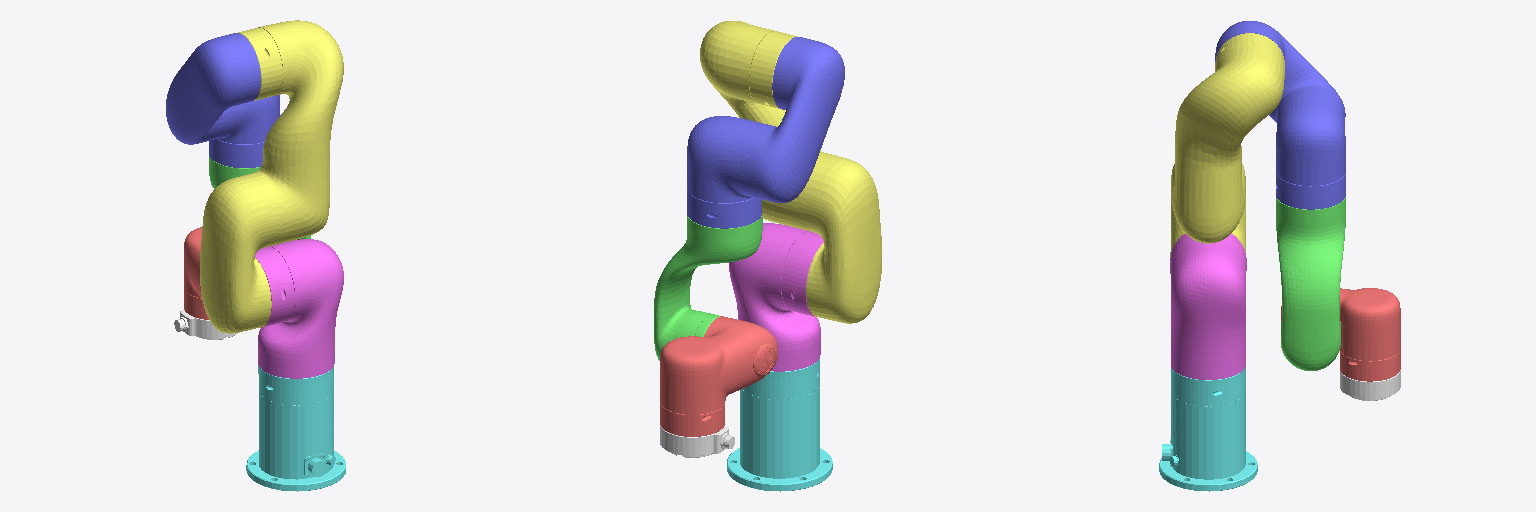
The robot description file, URDF, robot "xarm_urdf_color":
<?xml version="1.0" encoding="utf-8"?>
<!-- This URDF was automatically created by SolidWorks to URDF Exporter! Originally created by Stephen Brawner (brawner@gmail.com) 
     Commit Version: 1.6.0-4-g7f85cfe  Build Version: 1.6.7995.38578
     For more information, please see http://wiki.ros.org/sw_urdf_exporter -->
<robot
  name="xarm_urdf_color">
  <link
    name="base_link">
    <inertial>
      <origin
        xyz="-0.024415 0.015635 0.090248"
        rpy="0 0 0" />
      <mass
        value="1.1181" />
      <inertia
        ixx="0.001685"
        ixy="1.6957E-06"
        ixz="9.2957E-07"
        iyy="0.0016671"
        iyz="-9.0262E-06"
        izz="0.0013787" />
    </inertial>
    <visual>
      <origin
        xyz="0 0 0"
        rpy="0 0 0" />
      <geometry>
        <mesh
          filename="package://xarm_urdf_color/meshes/base_link.STL" />
      </geometry>
      <material
        name="">
        <color
          rgba="0.5 1 1 1" />
      </material>
    </visual>
    <collision>
      <origin
        xyz="0 0 0"
        rpy="0 0 0" />
      <geometry>
        <mesh
          filename="package://xarm_urdf_color/meshes/base_link.STL" />
      </geometry>
    </collision>
  </link>
  <link
    name="Link2">
    <inertial>
      <origin
        xyz="8.1362E-08 0.0034088 0.086994"
        rpy="0 0 0" />
      <mass
        value="1.3381" />
      <inertia
        ixx="0.0030614"
        ixy="6.6429E-10"
        ixz="-5.6484E-07"
        iyy="0.0032341"
        iyz="0.00016586"
        izz="0.0014021" />
    </inertial>
    <visual>
      <origin
        xyz="0 0 0"
        rpy="0 0 0" />
      <geometry>
        <mesh
          filename="package://xarm_urdf_color/meshes/Link2.STL" />
      </geometry>
      <material
        name="">
        <color
          rgba="1 0.5 1 1" />
      </material>
    </visual>
    <collision>
      <origin
        xyz="0 0 0"
        rpy="0 0 0" />
      <geometry>
        <mesh
          filename="package://xarm_urdf_color/meshes/Link2.STL" />
      </geometry>
    </collision>
  </link>
  <joint
    name="joint2"
    type="continuous">
    <origin
      xyz="-0.02444 0.015911 0.16646"
      rpy="0 0 1.5708" />
    <parent
      link="base_link" />
    <child
      link="Link2" />
    <axis
      xyz="0 0 1" />
    <limit
      lower="0"
      upper="0"
      effort="0"
      velocity="0" />
  </joint>
  <link
    name="Link3">
    <inertial>
      <origin
        xyz="0.012168 -0.15565 -0.035665"
        rpy="0 0 0" />
      <mass
        value="2.8892" />
      <inertia
        ixx="0.032819"
        ixy="0.0033762"
        ixz="0.0012993"
        iyy="0.010159"
        iyz="-0.010876"
        izz="0.027588" />
    </inertial>
    <visual>
      <origin
        xyz="0 0 0"
        rpy="0 0 0" />
      <geometry>
        <mesh
          filename="package://xarm_urdf_color/meshes/Link3.STL" />
      </geometry>
      <material
        name="">
        <color
          rgba="1 1 0.5 1" />
      </material>
    </visual>
    <collision>
      <origin
        xyz="0 0 0"
        rpy="0 0 0" />
      <geometry>
        <mesh
          filename="package://xarm_urdf_color/meshes/Link3.STL" />
      </geometry>
    </collision>
  </link>
  <joint
    name="joint3"
    type="revolute">
    <origin
      xyz="0 0.0621 0.118"
      rpy="-1.5708 0 0" />
    <parent
      link="Link2" />
    <child
      link="Link3" />
    <axis
      xyz="0 0 1" />
    <limit
      lower="-2.0595"
      upper="2.0944"
      effort="0"
      velocity="0" />
  </joint>
  <link
    name="Link4">
    <inertial>
      <origin
        xyz="0.05723 0.071725 -0.003541"
        rpy="0 0 0" />
      <mass
        value="1.559" />
      <inertia
        ixx="0.0048668"
        ixy="-0.0016529"
        ixz="0.0009458"
        iyy="0.0045374"
        iyz="0.0011458"
        izz="0.0048084" />
    </inertial>
    <visual>
      <origin
        xyz="0 0 0"
        rpy="0 0 0" />
      <geometry>
        <mesh
          filename="package://xarm_urdf_color/meshes/Link4.STL" />
      </geometry>
      <material
        name="">
        <color
          rgba="0.5 0.5 1 1" />
      </material>
    </visual>
    <collision>
      <origin
        xyz="0 0 0"
        rpy="0 0 0" />
      <geometry>
        <mesh
          filename="package://xarm_urdf_color/meshes/Link4.STL" />
      </geometry>
    </collision>
  </link>
  <joint
    name="joint4"
    type="revolute">
    <origin
      xyz="0.053148 -0.28478 -0.0178"
      rpy="0 0 0" />
    <parent
      link="Link3" />
    <child
      link="Link4" />
    <axis
      xyz="0 0 1" />
    <limit
      lower="-3.927"
      upper="0.19199"
      effort="0"
      velocity="0" />
  </joint>
  <link
    name="Link5">
    <inertial>
      <origin
        xyz="-5.3149E-07 0.030899 0.10125"
        rpy="0 0 0" />
      <mass
        value="0.84286" />
      <inertia
        ixx="0.0046465"
        ixy="2.6629E-10"
        ixz="-1.2154E-09"
        iyy="0.0041624"
        iyz="-0.001225"
        izz="0.0011818" />
    </inertial>
    <visual>
      <origin
        xyz="0 0 0"
        rpy="0 0 0" />
      <geometry>
        <mesh
          filename="package://xarm_urdf_color/meshes/Link5.STL" />
      </geometry>
      <material
        name="">
        <color
          rgba="0.5 1 0.5 1" />
      </material>
    </visual>
    <collision>
      <origin
        xyz="0 0 0"
        rpy="0 0 0" />
      <geometry>
        <mesh
          filename="package://xarm_urdf_color/meshes/Link5.STL" />
      </geometry>
    </collision>
  </link>
  <joint
    name="joint5"
    type="continuous">
    <origin
      xyz="0.077749 0.16061 -0.0443"
      rpy="-1.5708 0 0" />
    <parent
      link="Link4" />
    <child
      link="Link5" />
    <axis
      xyz="0 0 1" />
    <limit
      lower="0"
      upper="0"
      effort="0"
      velocity="0" />
  </joint>
  <link
    name="Link6">
    <inertial>
      <origin
        xyz="0.045987 0.0093462 0.022466"
        rpy="0 0 0" />
      <mass
        value="0.82753" />
      <inertia
        ixx="0.00064253"
        ixy="-2.4535E-05"
        ixz="0.00022583"
        iyy="0.0015836"
        iyz="7.043E-06"
        izz="0.0015057" />
    </inertial>
    <visual>
      <origin
        xyz="0 0 0"
        rpy="0 0 0" />
      <geometry>
        <mesh
          filename="package://xarm_urdf_color/meshes/Link6.STL" />
      </geometry>
      <material
        name="">
        <color
          rgba="1 0.5 0.5 1" />
      </material>
    </visual>
    <collision>
      <origin
        xyz="0 0 0"
        rpy="0 0 0" />
      <geometry>
        <mesh
          filename="package://xarm_urdf_color/meshes/Link6.STL" />
      </geometry>
    </collision>
  </link>
  <joint
    name="joint6"
    type="revolute">
    <origin
      xyz="1.1469E-05 0.014 0.1817"
      rpy="1.5708 0 0" />
    <parent
      link="Link5" />
    <child
      link="Link6" />
    <axis
      xyz="0 0 1" />
    <limit
      lower="-1.693"
      upper="3.1416"
      effort="0"
      velocity="0" />
  </joint>
  <link
    name="EE_Link">
    <inertial>
      <origin
        xyz="1.59805922494982E-07 -0.00180149622908889 0.0156188075371726"
        rpy="0 0 0" />
      <mass
        value="0.138708669532972" />
      <inertia
        ixx="6.96057927162632E-05"
        ixy="9.5724766077616E-10"
        ixz="8.28562698985609E-12"
        iyy="5.83956362885756E-05"
        iyz="-2.90543034249767E-07"
        izz="0.000108805105179939" />
    </inertial>
    <visual>
      <origin
        xyz="0 0 0"
        rpy="0 0 0" />
      <geometry>
        <mesh
          filename="package://xarm_urdf_color/meshes/EE_Link.STL" />
      </geometry>
      <material
        name="">
        <color
          rgba="1 1 1 1" />
      </material>
    </visual>
    <collision>
      <origin
        xyz="0 0 0"
        rpy="0 0 0" />
      <geometry>
        <mesh
          filename="package://xarm_urdf_color/meshes/EE_Link.STL" />
      </geometry>
    </collision>
  </link>
  <joint
    name="joint7"
    type="continuous">
    <origin
      xyz="0.075889 0.063504 0.014"
      rpy="-1.5708 0 0" />
    <parent
      link="Link6" />
    <child
      link="EE_Link" />
    <axis
      xyz="0 0 1" />
    <limit
      lower="0"
      upper="0"
      effort="0"
      velocity="0" />
  </joint>
</robot>

--- Facts derived from the render (not from the file) ---
3 views of the same robot in one strip: view 1: azimuth 30°, elevation 25°; view 2: azimuth 150°, elevation 25°; view 3: azimuth 270°, elevation 25° (orthographic).
Model xarm_urdf_color with 7 links and 6 joints (3 revolute, 3 continuous), rooted at base_link, posed all joints at 0.
Visible links, largest first — view 1: Link3, Link4, Link2, base_link, Link6, EE_Link, Link5; view 2: Link3, Link4, base_link, Link6, Link2, Link5, EE_Link; view 3: Link3, Link2, Link4, Link5, base_link, Link6, EE_Link.
Link boxes in pixels (left/top/right/bottom): Link3: left=200, top=20, right=343, bottom=333; Link4: left=166, top=33, right=279, bottom=167; Link2: left=255, top=239, right=343, bottom=378; base_link: left=246, top=365, right=345, bottom=491; Link6: left=184, top=227, right=208, bottom=319; EE_Link: left=174, top=310, right=239, bottom=339; Link5: left=209, top=156, right=310, bottom=239; Link3: left=700, top=21, right=881, bottom=323; Link4: left=687, top=37, right=844, bottom=228; base_link: left=727, top=358, right=832, bottom=491; Link6: left=660, top=316, right=777, bottom=436; Link2: left=729, top=223, right=823, bottom=371; Link5: left=654, top=216, right=762, bottom=360; EE_Link: left=660, top=425, right=734, bottom=457; Link3: left=1170, top=33, right=1284, bottom=257; Link2: left=1170, top=233, right=1246, bottom=379; Link4: left=1215, top=21, right=1345, bottom=209; Link5: left=1276, top=197, right=1345, bottom=370; base_link: left=1159, top=367, right=1257, bottom=491; Link6: left=1281, top=288, right=1400, bottom=381; EE_Link: left=1340, top=370, right=1400, bottom=400.
Bounding box of the posed robot: 0.21 × 0.3088 × 0.5961 m (x, y, z).
7 mesh visuals loaded from 7 distinct referenced files (7 binary STL).
